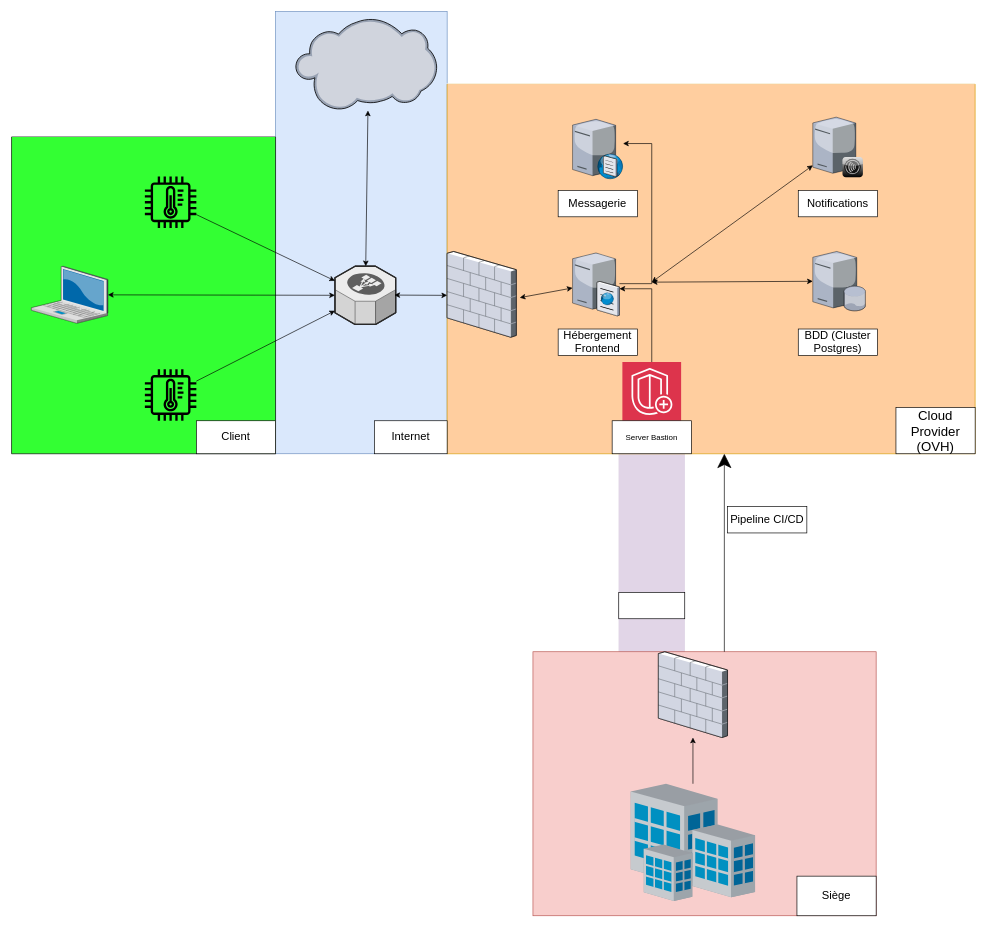
The diagram is 987 pixels wide and 927 high, and some of its shapes have lost their labels. The centre of each missing label's shape, as x and y in pixels:
"API" goes at point (366, 64).
"Tunnel VPN" goes at point (651, 605).
